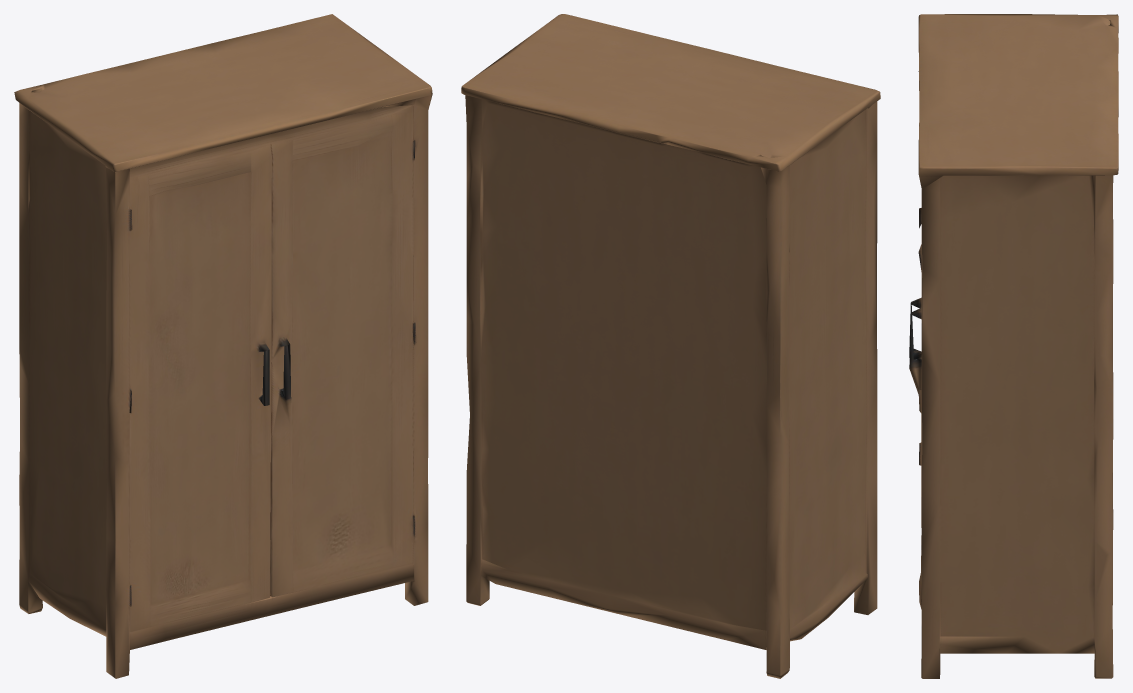
Rendered from NV_WARDROBE_v001_RAW.glb.
3 renders of one model, left to right at view 1: azimuth 30°, elevation 25°; view 2: azimuth 150°, elevation 25°; view 3: azimuth 270°, elevation 25°, orthographic.
Visible parts, largest first — view 1: tripo_node_cfd28629-8007-4fd4-b70e-40c968b7053e; view 2: tripo_node_cfd28629-8007-4fd4-b70e-40c968b7053e; view 3: tripo_node_cfd28629-8007-4fd4-b70e-40c968b7053e.
Part boxes in pixels (bbox=[...]): tripo_node_cfd28629-8007-4fd4-b70e-40c968b7053e: bbox=[14, 14, 432, 678]; tripo_node_cfd28629-8007-4fd4-b70e-40c968b7053e: bbox=[461, 14, 880, 678]; tripo_node_cfd28629-8007-4fd4-b70e-40c968b7053e: bbox=[909, 14, 1118, 678].
Bounding box in the file's own units: 0.6333 × 0.9785 × 0.3627.
1 material, 1 textured.
